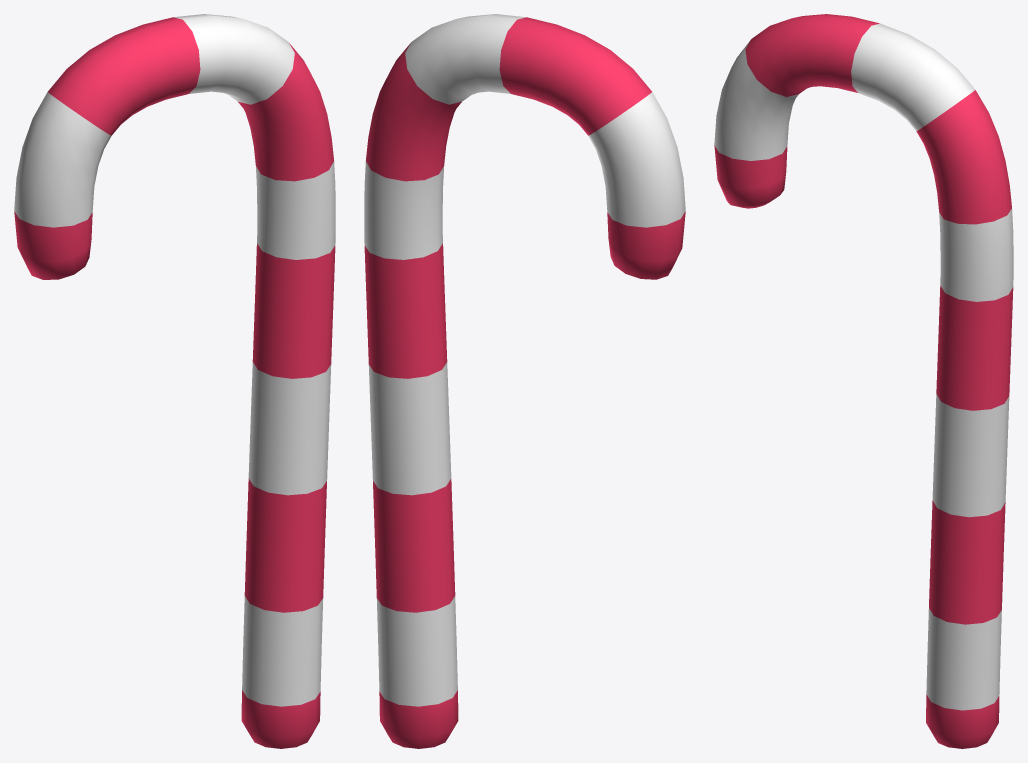
File: candycane.fbx
3 renders of one model, left to right at view 1: azimuth 30°, elevation 25°; view 2: azimuth 150°, elevation 25°; view 3: azimuth 330°, elevation 25°, orthographic. The views are drawn at different scales.
Parts seen in each view (by area): view 1: BézierCurve.002; view 2: BézierCurve.002; view 3: BézierCurve.002.
Boxes of the visible parts, x1,y1,x2,y2 form: BézierCurve.002: (14, 14, 335, 748); BézierCurve.002: (364, 14, 685, 748); BézierCurve.002: (714, 14, 1013, 748).
Bounding box in the file's own units: 124 × 282 × 27.13.
